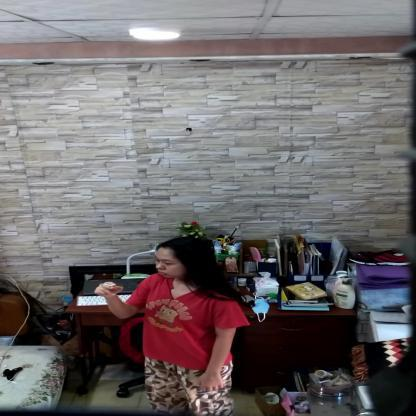cigarette: (100, 283, 113, 287)
person: (106, 236, 241, 415)
